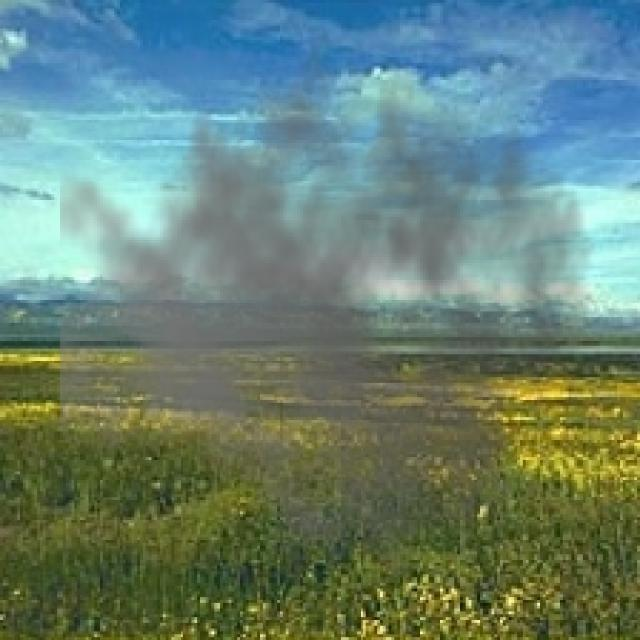Smoke: (60, 20, 594, 583)
